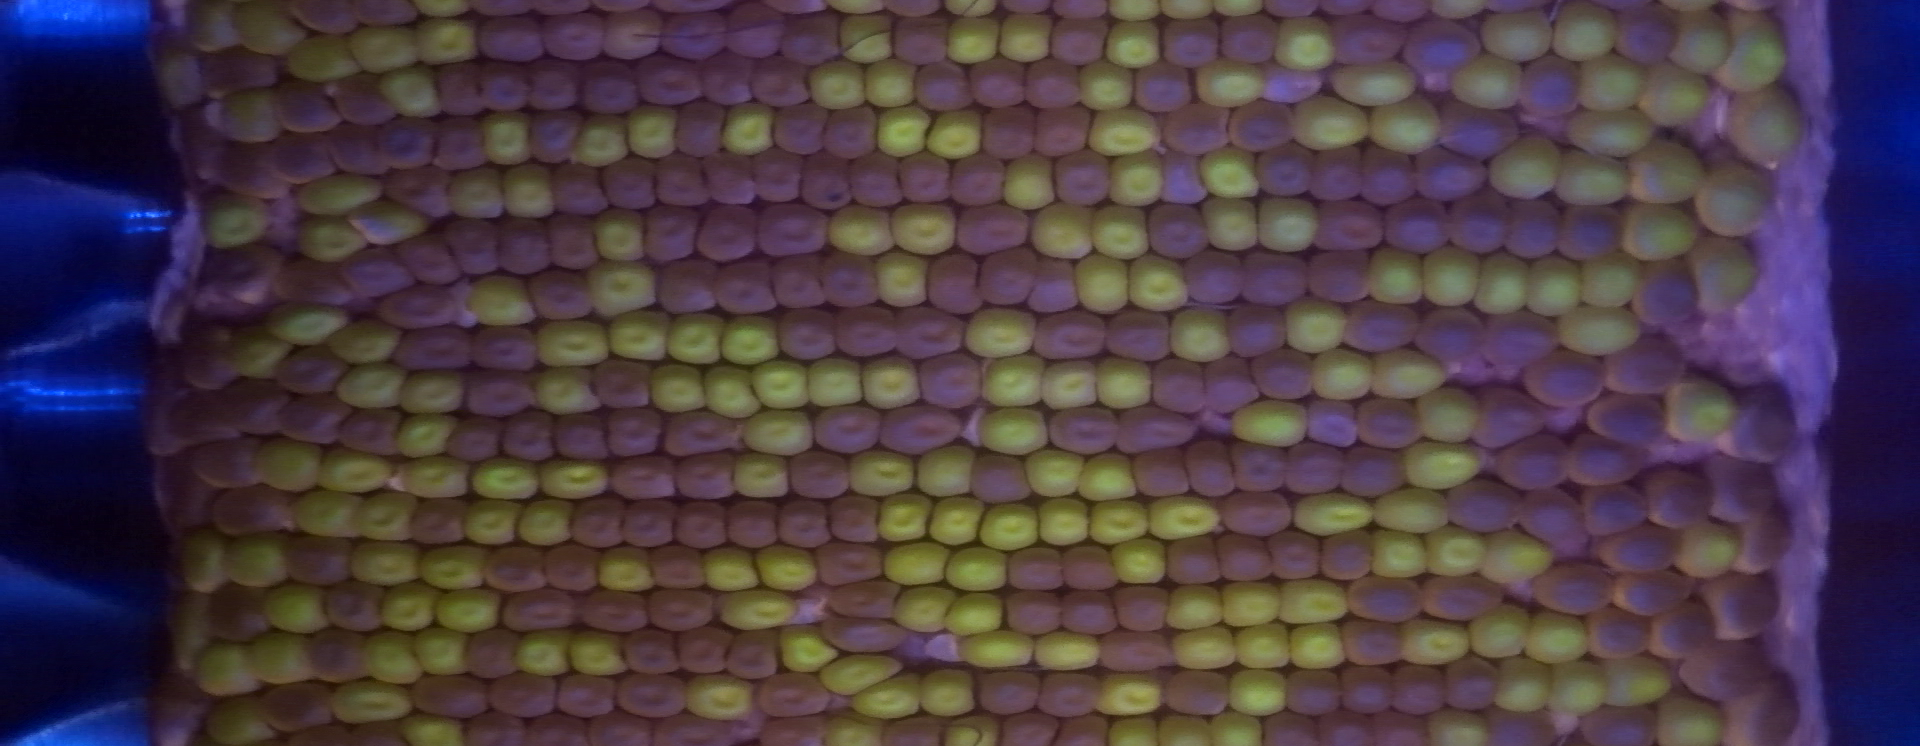fluorescent: (1724, 75, 1816, 173), (1689, 154, 1787, 241), (1713, 1, 1798, 100), (1616, 134, 1716, 213), (1477, 127, 1577, 205), (1624, 58, 1725, 134), (1682, 230, 1769, 318), (136, 29, 220, 118), (1359, 87, 1457, 162), (1559, 100, 1671, 165), (1659, 367, 1745, 450), (1547, 142, 1644, 213), (1367, 481, 1468, 549), (1565, 47, 1660, 118), (1280, 91, 1380, 157), (1469, 523, 1562, 594), (209, 527, 305, 595), (1473, 1, 1569, 70), (576, 255, 669, 325), (156, 586, 223, 681), (321, 670, 424, 733), (1460, 246, 1540, 325), (1540, 1, 1631, 71), (1360, 342, 1460, 405), (182, 638, 276, 706), (1413, 239, 1491, 318), (1460, 595, 1543, 670), (1664, 1, 1738, 86), (253, 296, 361, 354), (707, 582, 812, 641), (1189, 138, 1276, 209), (231, 627, 324, 693), (1220, 393, 1320, 454), (1513, 249, 1593, 326), (191, 185, 280, 254), (1444, 47, 1533, 115), (244, 432, 336, 499), (1517, 605, 1604, 675), (1389, 610, 1485, 673), (305, 442, 405, 502), (811, 647, 917, 703), (220, 1, 311, 67), (958, 301, 1048, 367), (1551, 303, 1653, 361), (285, 167, 396, 220), (1357, 241, 1439, 314), (339, 17, 432, 81), (212, 318, 305, 382), (1082, 100, 1172, 167), (1329, 53, 1429, 111), (1275, 287, 1359, 356), (880, 195, 967, 262), (1163, 615, 1255, 679), (1022, 197, 1103, 269), (972, 347, 1056, 416), (1261, 9, 1344, 78), (1267, 571, 1360, 633), (1569, 246, 1653, 315), (1251, 190, 1332, 261), (277, 27, 369, 89), (1396, 437, 1491, 497), (252, 577, 340, 642), (1668, 514, 1751, 583), (1189, 191, 1273, 258), (1407, 382, 1491, 450), (168, 526, 242, 601), (1416, 519, 1501, 586), (841, 666, 936, 726), (1300, 342, 1387, 407), (1483, 650, 1565, 719), (969, 401, 1060, 462), (280, 486, 372, 548), (1537, 658, 1625, 722), (208, 82, 287, 153), (563, 107, 643, 176), (1089, 663, 1176, 726), (531, 451, 624, 510), (867, 245, 947, 314), (675, 666, 765, 726), (1596, 649, 1684, 710), (819, 198, 904, 262), (1289, 486, 1385, 543), (531, 314, 621, 374), (339, 535, 432, 593), (339, 198, 441, 251), (460, 269, 542, 334), (769, 619, 851, 684), (1119, 250, 1201, 315), (838, 445, 924, 506), (876, 535, 962, 597), (1084, 197, 1157, 269), (709, 310, 792, 374), (1184, 54, 1276, 111), (358, 624, 436, 691), (527, 359, 611, 421), (1084, 349, 1163, 415), (192, 691, 288, 746), (465, 451, 555, 510), (1155, 579, 1244, 638), (407, 10, 489, 73), (1360, 522, 1442, 586), (1101, 141, 1172, 214), (371, 59, 447, 127), (696, 356, 771, 425), (1016, 439, 1092, 507), (937, 539, 1020, 601), (953, 624, 1047, 679), (328, 355, 413, 416), (408, 541, 500, 598), (1211, 573, 1296, 635), (909, 437, 988, 502), (800, 55, 880, 119), (320, 318, 413, 374), (392, 450, 482, 506), (1021, 625, 1112, 681), (1141, 491, 1232, 548), (971, 499, 1056, 559), (555, 626, 639, 686), (852, 352, 932, 415), (1067, 446, 1149, 507), (440, 160, 516, 227), (640, 354, 718, 419), (692, 538, 775, 598), (1029, 353, 1107, 416), (344, 485, 424, 548), (585, 202, 655, 273), (1068, 247, 1138, 318), (476, 103, 545, 175), (388, 366, 478, 421), (656, 306, 735, 369), (732, 405, 823, 459), (1029, 490, 1103, 555), (285, 213, 377, 266), (868, 488, 944, 551), (911, 661, 987, 725), (1164, 303, 1240, 366), (1647, 690, 1733, 746), (1277, 614, 1356, 675), (725, 443, 801, 506), (493, 159, 571, 220), (748, 539, 829, 597), (744, 355, 820, 416), (504, 624, 580, 685), (369, 577, 444, 638), (887, 579, 964, 639), (407, 619, 479, 682), (937, 587, 1020, 642), (448, 494, 528, 551), (1224, 615, 1300, 675), (384, 409, 465, 465), (996, 149, 1064, 216), (856, 55, 928, 118), (599, 305, 671, 367), (923, 490, 996, 552), (1104, 530, 1177, 593), (1100, 13, 1173, 75), (427, 586, 511, 639), (504, 491, 579, 551), (1079, 494, 1160, 549), (939, 10, 1011, 71), (585, 543, 664, 599), (1217, 663, 1296, 719), (800, 352, 873, 412), (713, 98, 781, 162), (1071, 55, 1140, 118), (835, 9, 902, 70), (920, 105, 989, 163), (871, 102, 936, 163), (992, 7, 1059, 66), (623, 98, 684, 162), (181, 1, 242, 62), (393, 707, 479, 746), (1423, 702, 1496, 746), (813, 706, 887, 746), (936, 707, 1007, 746), (1199, 709, 1270, 746), (1149, 709, 1217, 746), (1097, 710, 1164, 746)
nonfluorescent: (1671, 635, 1780, 709), (1693, 563, 1788, 647), (1689, 450, 1785, 529), (1428, 94, 1528, 170), (1720, 377, 1801, 470), (140, 657, 223, 746), (1716, 666, 1809, 746), (143, 447, 228, 534), (1520, 343, 1621, 415), (1524, 554, 1629, 622), (1331, 293, 1433, 363), (1597, 334, 1700, 402), (1627, 254, 1713, 334), (1729, 490, 1801, 586), (1476, 303, 1571, 375), (1489, 426, 1583, 499), (1460, 382, 1558, 451), (1636, 459, 1724, 535), (869, 394, 971, 459), (1392, 15, 1493, 78), (1409, 298, 1498, 370), (1319, 9, 1420, 71), (1592, 519, 1700, 578), (645, 250, 729, 326), (211, 135, 298, 207), (1300, 241, 1387, 314), (200, 477, 296, 541), (489, 579, 593, 639), (749, 198, 841, 266), (1439, 190, 1521, 265), (1025, 303, 1116, 370), (1558, 430, 1648, 497), (1580, 390, 1679, 451), (1232, 243, 1320, 311), (267, 387, 358, 453), (1107, 401, 1209, 459), (1439, 473, 1531, 538), (1611, 1, 1693, 73), (705, 251, 789, 322), (405, 666, 503, 726), (242, 677, 347, 734), (1513, 49, 1589, 126), (827, 301, 913, 369), (627, 49, 715, 115), (1305, 194, 1395, 258), (1407, 142, 1496, 207), (1156, 98, 1245, 163), (764, 243, 840, 318), (975, 243, 1051, 318), (212, 372, 295, 441), (192, 42, 285, 103), (920, 249, 996, 323), (171, 321, 249, 394), (1044, 145, 1123, 217), (391, 318, 481, 381), (1413, 570, 1513, 626), (181, 434, 269, 497), (1548, 198, 1631, 266), (160, 387, 245, 453), (569, 583, 662, 643), (173, 98, 235, 187), (201, 577, 277, 650), (1499, 195, 1576, 267), (909, 347, 988, 416), (1643, 597, 1724, 665), (1247, 341, 1327, 409), (1044, 398, 1131, 462), (883, 303, 971, 365), (212, 238, 287, 311), (591, 149, 669, 220), (484, 211, 561, 282), (948, 197, 1037, 258), (1125, 51, 1204, 121), (744, 666, 841, 723), (388, 227, 469, 294), (373, 163, 460, 225), (1573, 479, 1660, 541), (324, 67, 407, 134), (263, 126, 347, 191), (812, 401, 895, 465), (1149, 9, 1232, 73), (1340, 570, 1431, 628), (792, 145, 863, 220), (1101, 298, 1177, 369), (1142, 353, 1220, 423), (276, 526, 360, 589), (688, 202, 767, 271), (1217, 296, 1296, 365), (569, 51, 649, 119), (1379, 194, 1461, 258), (1220, 96, 1307, 157), (452, 621, 535, 685), (1248, 137, 1324, 207), (372, 274, 460, 334), (463, 318, 551, 379), (961, 53, 1041, 119), (813, 249, 893, 315), (769, 303, 849, 369), (804, 538, 900, 593), (300, 621, 380, 687), (1331, 442, 1420, 501), (1353, 138, 1425, 211), (689, 43, 764, 113), (692, 145, 767, 214), (1091, 625, 1188, 679), (721, 1, 797, 70), (764, 98, 840, 167), (771, 9, 851, 73), (1580, 601, 1659, 666), (528, 5, 609, 69), (1209, 7, 1289, 71), (1018, 250, 1089, 322), (1211, 488, 1304, 543), (579, 354, 661, 416), (536, 209, 611, 278), (268, 75, 345, 141), (669, 445, 747, 510), (1348, 394, 1433, 454), (1177, 245, 1256, 309), (1608, 566, 1700, 621), (468, 11, 549, 73), (1304, 138, 1375, 209), (943, 143, 1015, 213), (478, 539, 563, 598), (1016, 51, 1091, 119), (647, 147, 721, 214), (1141, 198, 1216, 266), (313, 577, 396, 638), (1435, 650, 1511, 717), (540, 154, 617, 219), (333, 245, 420, 303), (601, 450, 684, 510), (960, 447, 1040, 510), (967, 663, 1052, 722), (840, 146, 911, 216), (1177, 435, 1248, 505), (1151, 145, 1221, 216), (267, 257, 359, 311), (544, 409, 624, 470), (545, 669, 631, 726), (372, 110, 448, 175), (561, 489, 637, 554), (1221, 434, 1297, 499), (636, 583, 725, 638), (1040, 10, 1117, 73), (662, 494, 740, 557), (456, 366, 542, 423), (609, 665, 696, 722), (776, 445, 860, 503), (1157, 663, 1240, 722), (972, 99, 1044, 167), (741, 143, 813, 211), (816, 610, 917, 658), (1275, 439, 1356, 499), (524, 263, 600, 327), (269, 342, 355, 398), (596, 401, 673, 463), (1512, 485, 1589, 548), (640, 201, 707, 273), (1196, 352, 1269, 418), (136, 386, 196, 465), (525, 105, 599, 170), (909, 58, 983, 121), (769, 491, 844, 555), (1333, 614, 1416, 671), (331, 401, 409, 461), (999, 541, 1078, 601), (429, 55, 495, 126), (744, 50, 817, 115), (612, 490, 684, 555), (891, 149, 965, 213), (716, 491, 791, 554), (656, 407, 741, 462), (440, 216, 508, 283), (404, 492, 475, 557), (1125, 442, 1199, 505), (1309, 526, 1384, 587), (320, 122, 396, 183), (640, 538, 716, 598), (823, 575, 911, 626), (1025, 100, 1097, 163), (659, 7, 735, 66), (1052, 539, 1128, 598), (480, 670, 564, 723), (468, 58, 538, 121), (1575, 698, 1668, 746), (1385, 661, 1455, 725), (669, 619, 740, 681), (884, 10, 956, 71), (1277, 663, 1356, 719), (536, 538, 611, 597), (667, 94, 732, 162), (429, 109, 497, 173), (496, 405, 564, 469), (820, 488, 889, 551), (719, 622, 787, 686), (816, 100, 887, 162), (1253, 58, 1331, 113), (520, 53, 587, 118), (613, 626, 689, 682), (1260, 526, 1331, 586), (1032, 668, 1109, 723), (440, 412, 512, 470), (1107, 582, 1180, 639), (1157, 529, 1231, 587), (1211, 529, 1284, 587), (1049, 586, 1124, 639), (1000, 586, 1071, 642), (1297, 393, 1368, 450), (1335, 661, 1403, 719), (1476, 701, 1558, 746), (644, 709, 737, 746), (576, 707, 662, 746), (456, 706, 538, 746), (280, 1, 361, 42), (1255, 706, 1329, 746), (1365, 706, 1438, 746), (1311, 706, 1381, 746), (348, 1, 422, 38), (520, 709, 595, 746), (752, 709, 827, 746), (872, 710, 949, 746), (992, 709, 1065, 746), (1047, 710, 1116, 746)
